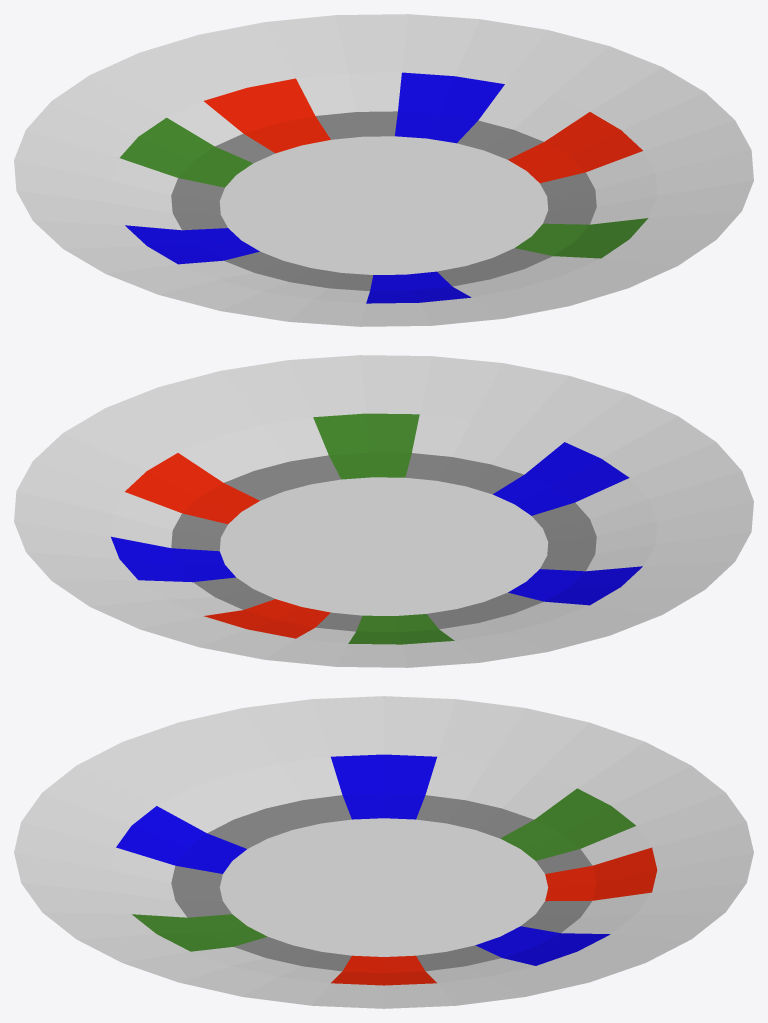
Rendered from Prato Puzzle.fbx.
3 views of the same model, one above another, from view 1: azimuth 30°, elevation 25°; view 2: azimuth 150°, elevation 25°; view 3: azimuth 270°, elevation 25° (orthographic).
Parts seen in each view (by area): view 1: Prato Que NAO Gira, Prato Que Gira; view 2: Prato Que NAO Gira, Prato Que Gira; view 3: Prato Que NAO Gira, Prato Que Gira.
Boxes of the visible parts, box(x1,y1,x2,y2) form: Prato Que NAO Gira: box(14, 14, 753, 326); Prato Que Gira: box(171, 111, 596, 291); Prato Que NAO Gira: box(14, 355, 753, 667); Prato Que Gira: box(171, 452, 596, 632); Prato Que NAO Gira: box(14, 696, 753, 1008); Prato Que Gira: box(171, 793, 596, 972).
Bounding box in the file's own units: 100 × 7.12 × 100.
